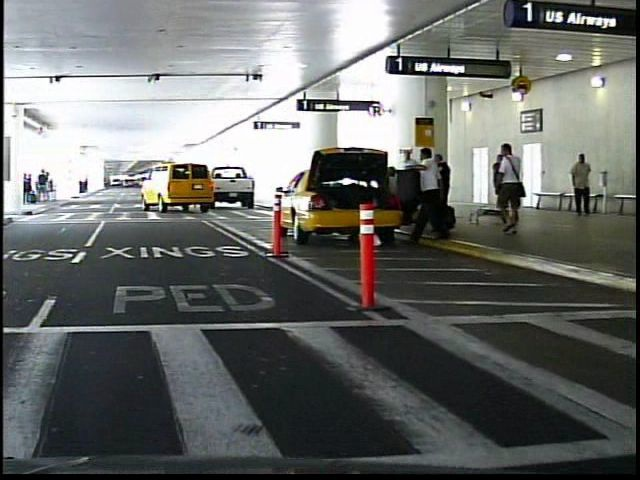person: (489, 140, 525, 238), (562, 149, 591, 217)
